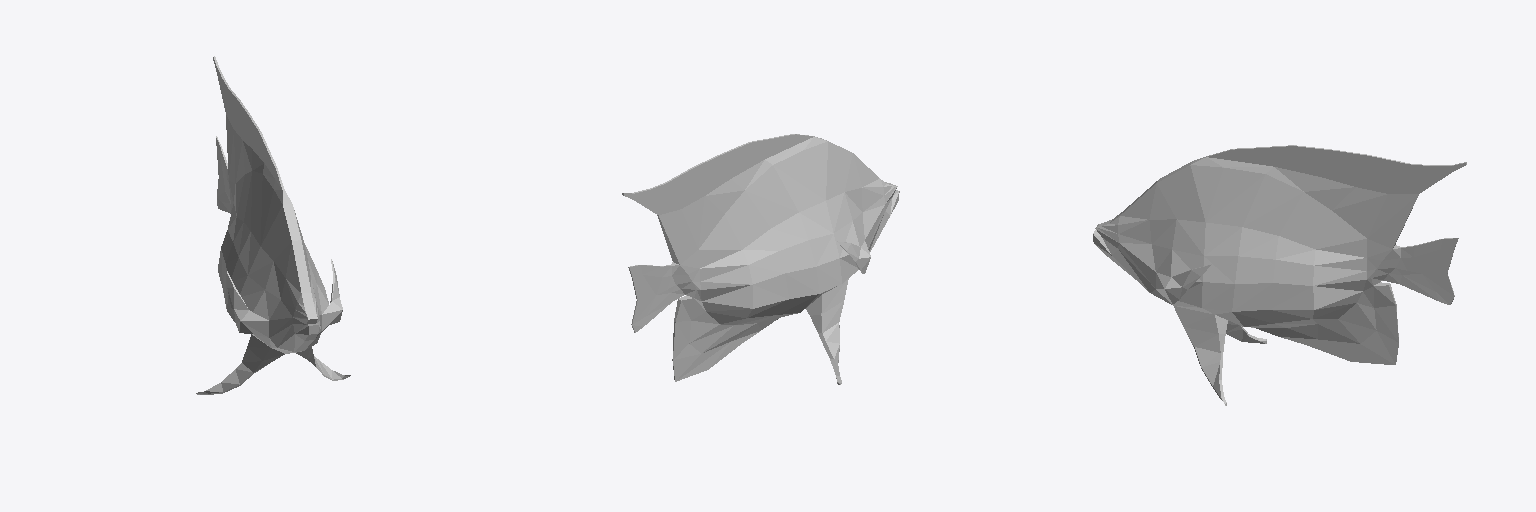
The model's file is pez2.obj.
3 views of the same model, side by side, from view 1: azimuth 30°, elevation 25°; view 2: azimuth 150°, elevation 25°; view 3: azimuth 270°, elevation 25° (orthographic).
Parts seen in each view (by area): view 1: polySurface76 polySurface75 polySurface73 polySurface71 polySurf; view 2: polySurface76 polySurface75 polySurface73 polySurface71 polySurf; view 3: polySurface76 polySurface75 polySurface73 polySurface71 polySurf.
Boxes of the visible parts, box(x1,y1,x2,y2) form: polySurface76 polySurface75 polySurface73 polySurface71 polySurf: box(196, 56, 350, 394); polySurface76 polySurface75 polySurface73 polySurface71 polySurf: box(622, 134, 899, 384); polySurface76 polySurface75 polySurface73 polySurface71 polySurf: box(1093, 145, 1466, 405).
Bounding box in the file's own units: 0.2322 × 0.3911 × 0.5584.